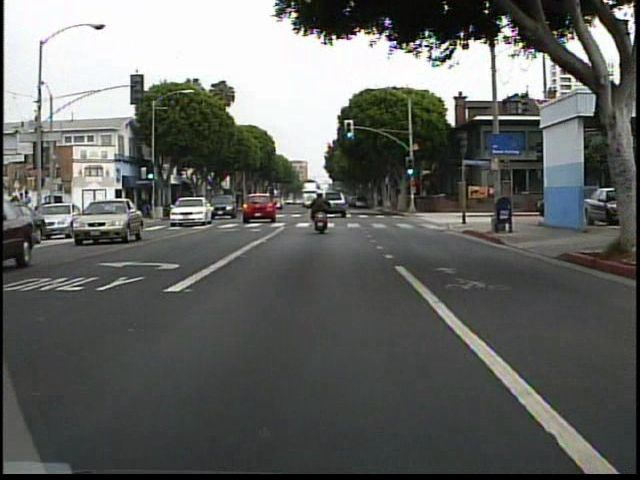person: (307, 185, 338, 244)
